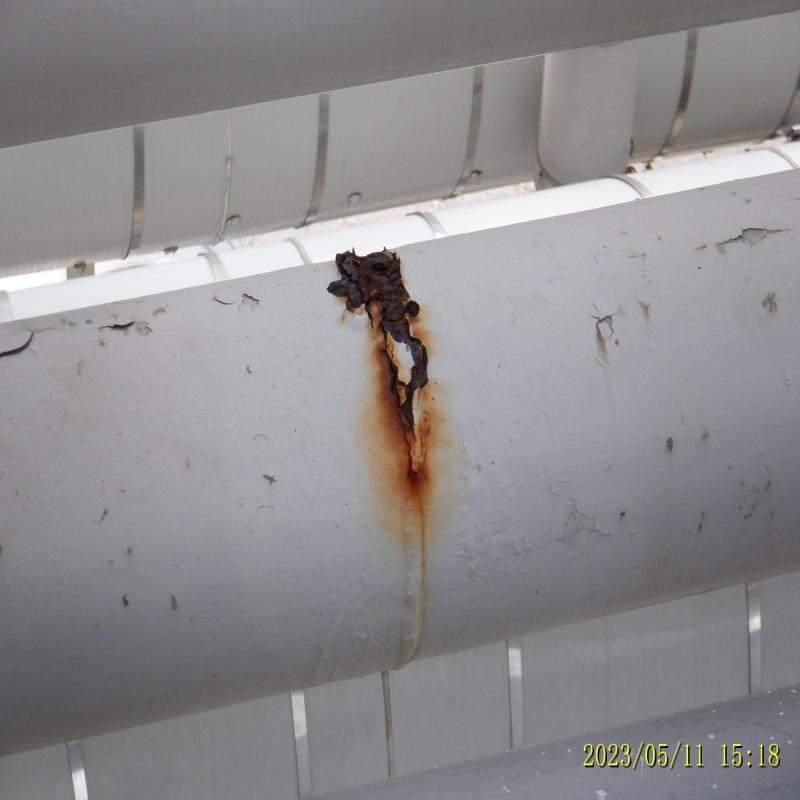Fracture: (371, 290, 397, 390), (338, 250, 362, 330)
corrosion: (332, 246, 434, 453)
